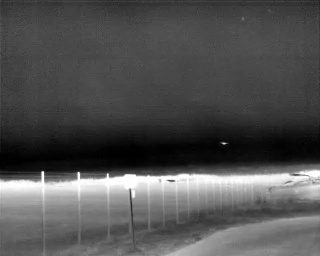AIRPLANE: (220, 139, 229, 147)
